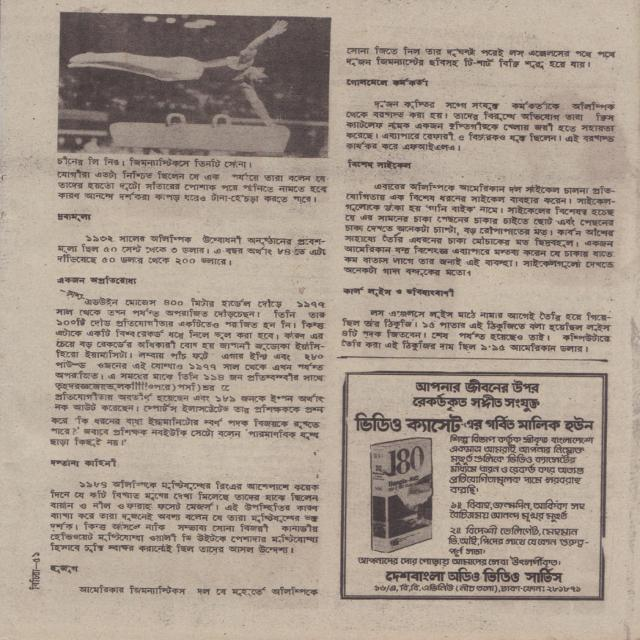advertisement: (339, 370, 609, 602)
image: (56, 10, 332, 159)
page number: (31, 552, 41, 563)
paragraph: (48, 288, 327, 448), (342, 181, 618, 278), (48, 479, 322, 555), (345, 98, 616, 152), (340, 308, 614, 354), (55, 168, 329, 204), (55, 234, 328, 266), (344, 45, 617, 70), (77, 584, 320, 597)
text: (27, 563, 43, 591)
title: (339, 285, 457, 298), (55, 274, 138, 286), (345, 77, 430, 88), (48, 457, 118, 469), (345, 158, 413, 170), (56, 213, 93, 223), (48, 564, 79, 575)
